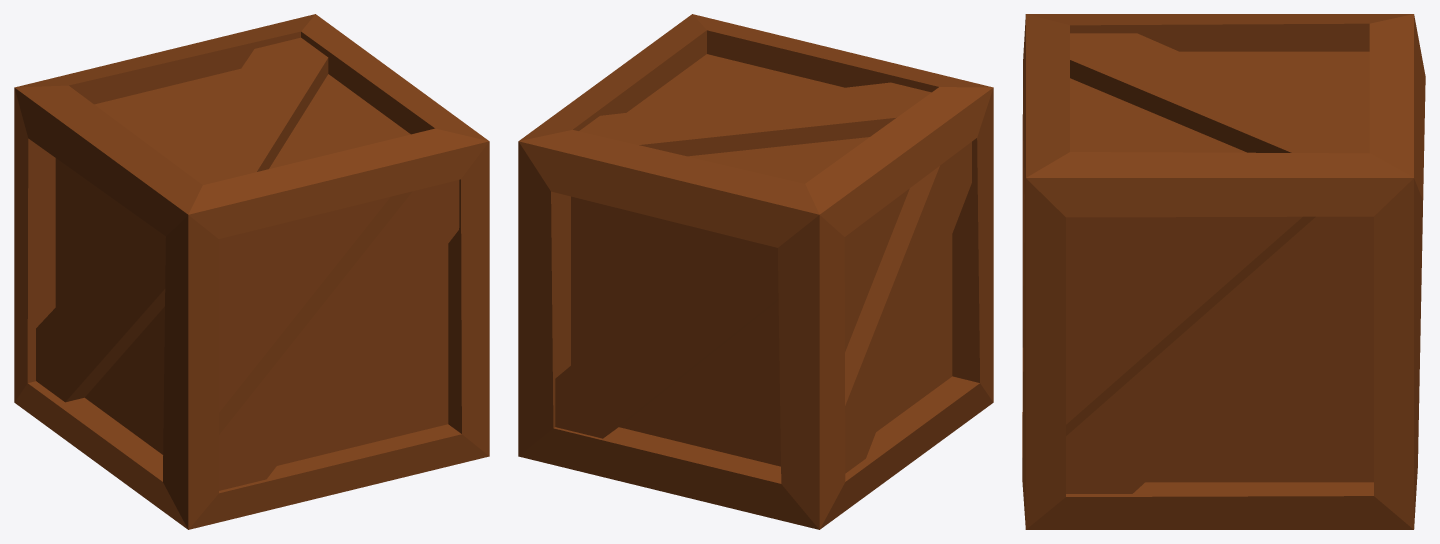
File: intro_prop(crate_unbroken)_01.FBX
The picture shows the model from 3 angles, left to right: view 1: azimuth 30°, elevation 25°; view 2: azimuth 150°, elevation 25°; view 3: azimuth 270°, elevation 25°; orthographic projection. The views are drawn at different scales.
Visible parts, largest first — view 1: crate_unbroken; view 2: crate_unbroken; view 3: crate_unbroken.
Boxes of the visible parts, bbox=[...] form: crate_unbroken: bbox=[14, 14, 489, 529]; crate_unbroken: bbox=[518, 14, 993, 529]; crate_unbroken: bbox=[1022, 14, 1425, 529].
Bounding box in the file's own units: 41.03 × 40.87 × 40.9.
